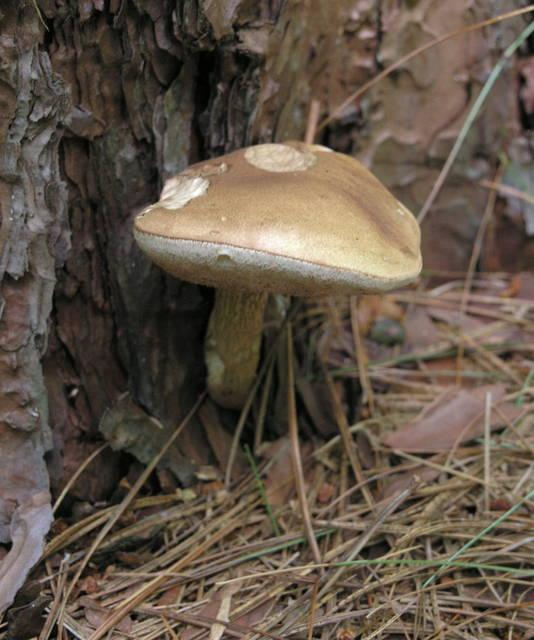Non-edible Mushroom: (130, 138, 423, 413)
